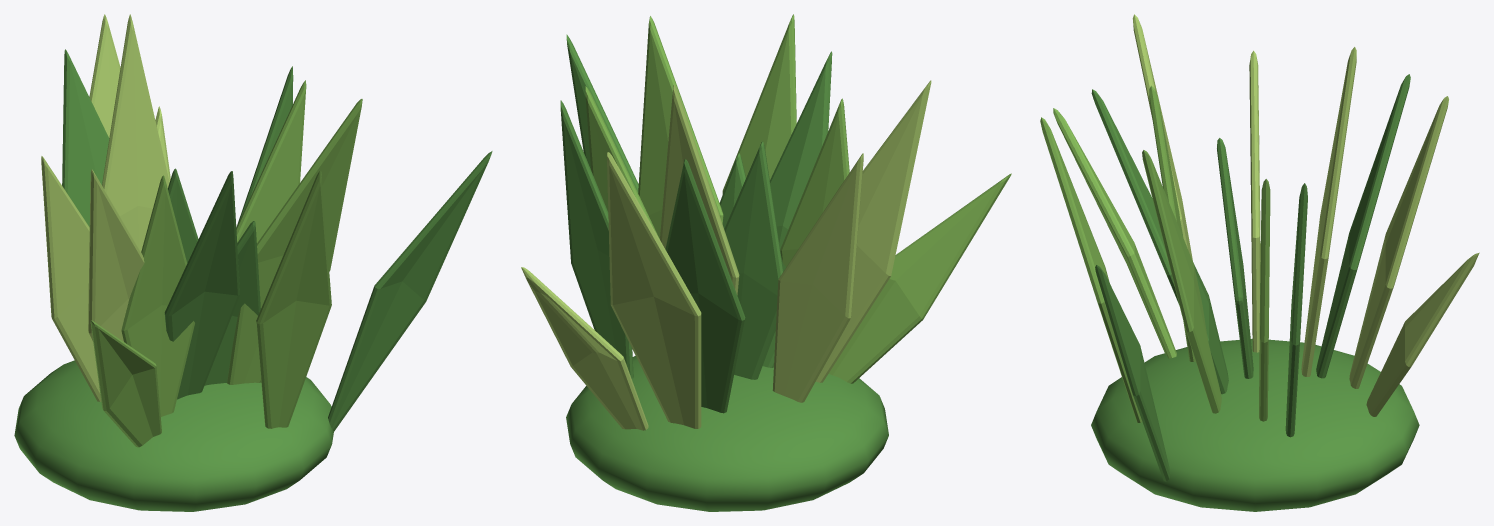
Rendered from Grass_Clump_C.fbx.
The picture shows the model from 3 angles, left to right: view 1: azimuth 30°, elevation 25°; view 2: azimuth 150°, elevation 25°; view 3: azimuth 270°, elevation 25°; orthographic projection.
Parts seen in each view (by area): view 1: Grass_Base.002, Grass_Blade_04.002, Grass_Blade_15, Grass_Blade_00.002, Grass_Blade_01.002, Grass_Blade_14, Grass_Blade_07.002, Grass_Blade_11.001, Grass_Blade_08.002, Grass_Blade_10.001, Grass_Blade_12.001, Grass_Blade_13 (+4 smaller); view 2: Grass_Base.002, Grass_Blade_02.002, Grass_Blade_11.001, Grass_Blade_10.001, Grass_Blade_12.001, Grass_Blade_08.002, Grass_Blade_06.002, Grass_Blade_09.001, Grass_Blade_05.002, Grass_Blade_07.002, Grass_Blade_00.002, Grass_Blade_04.002 (+5 smaller); view 3: Grass_Base.002, Grass_Blade_02.002, Grass_Blade_07.002, Grass_Blade_12.001, Grass_Blade_14, Grass_Blade_05.002, Grass_Blade_10.001, Grass_Blade_15, Grass_Blade_04.002, Grass_Blade_06.002, Grass_Blade_11.001, Grass_Blade_09.001 (+5 smaller).
Boxes of the visible parts, <box> form: Grass_Base.002: <box>14,360,333,511</box>; Grass_Blade_04.002: <box>256,171,331,428</box>; Grass_Blade_15: <box>328,151,492,431</box>; Grass_Blade_00.002: <box>164,171,239,399</box>; Grass_Blade_01.002: <box>121,175,194,416</box>; Grass_Blade_14: <box>102,14,169,251</box>; Grass_Blade_07.002: <box>227,99,362,384</box>; Grass_Blade_11.001: <box>41,156,101,401</box>; Grass_Blade_08.002: <box>88,169,144,341</box>; Grass_Blade_10.001: <box>90,320,161,447</box>; Grass_Blade_12.001: <box>62,49,109,226</box>; Grass_Blade_13: <box>236,80,306,242</box>; Grass_Base.002: <box>566,356,888,511</box>; Grass_Blade_02.002: <box>607,152,701,428</box>; Grass_Blade_11.001: <box>772,153,863,402</box>; Grass_Blade_10.001: <box>829,173,1011,383</box>; Grass_Blade_12.001: <box>665,159,745,413</box>; Grass_Blade_08.002: <box>816,80,931,382</box>; Grass_Blade_06.002: <box>724,141,783,379</box>; Grass_Blade_09.001: <box>560,100,633,378</box>; Grass_Blade_05.002: <box>521,267,648,430</box>; Grass_Blade_07.002: <box>638,16,723,238</box>; Grass_Blade_00.002: <box>762,51,832,367</box>; Grass_Blade_04.002: <box>722,14,796,193</box>; Grass_Base.002: <box>1091,338,1419,511</box>; Grass_Blade_02.002: <box>1349,96,1448,388</box>; Grass_Blade_07.002: <box>1142,150,1221,413</box>; Grass_Blade_12.001: <box>1316,74,1410,378</box>; Grass_Blade_14: <box>1301,47,1356,376</box>; Grass_Blade_05.002: <box>1366,252,1479,416</box>; Grass_Blade_10.001: <box>1053,108,1176,358</box>; Grass_Blade_15: <box>1095,265,1170,481</box>; Grass_Blade_04.002: <box>1040,117,1142,422</box>; Grass_Blade_06.002: <box>1217,138,1253,378</box>; Grass_Blade_11.001: <box>1249,50,1260,352</box>; Grass_Blade_09.001: <box>1285,183,1307,437</box>.
Size of the model in its own units: 101 by 97.86 by 89.84.
